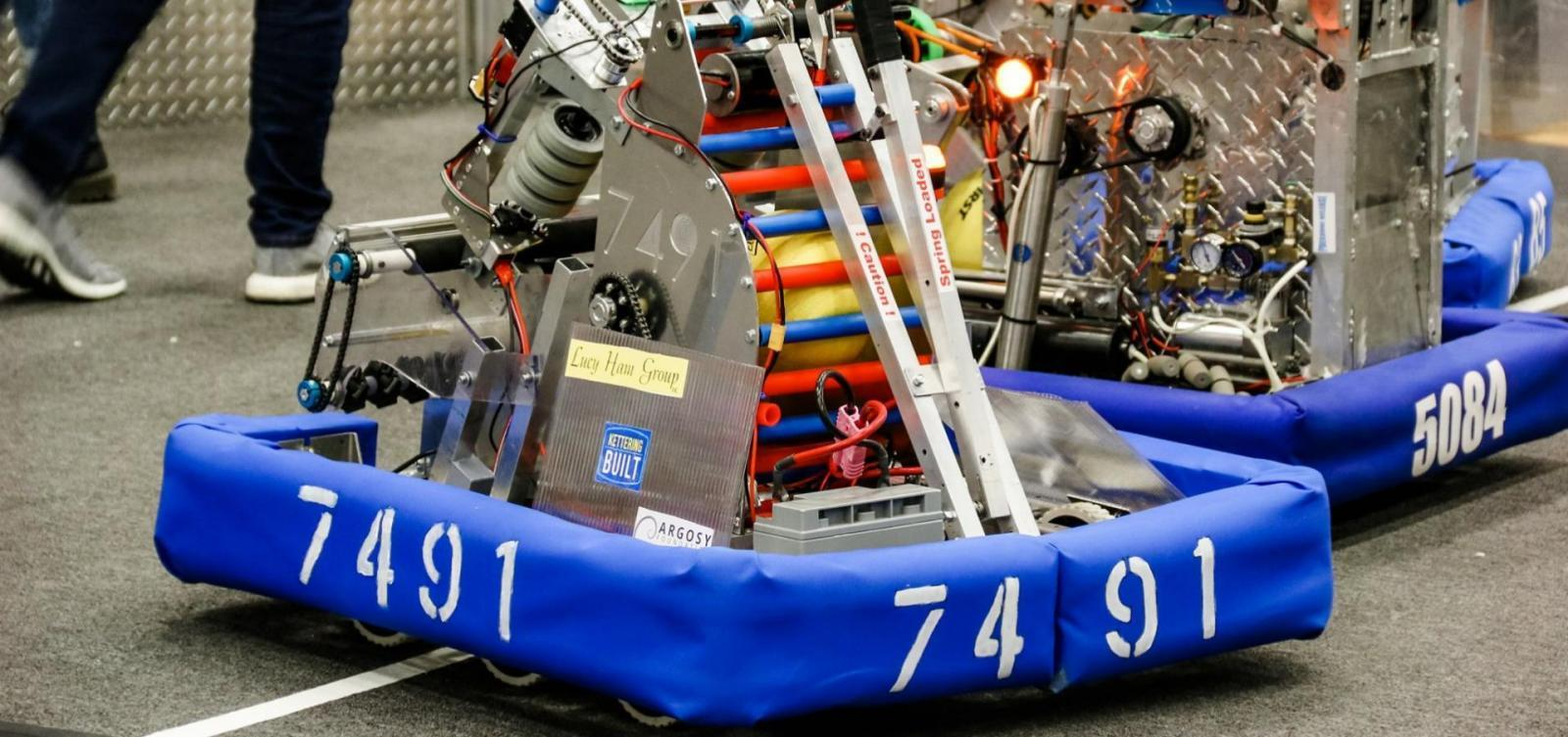robot: (146, 0, 1343, 735), (780, 0, 1568, 530), (1277, 0, 1560, 313)
